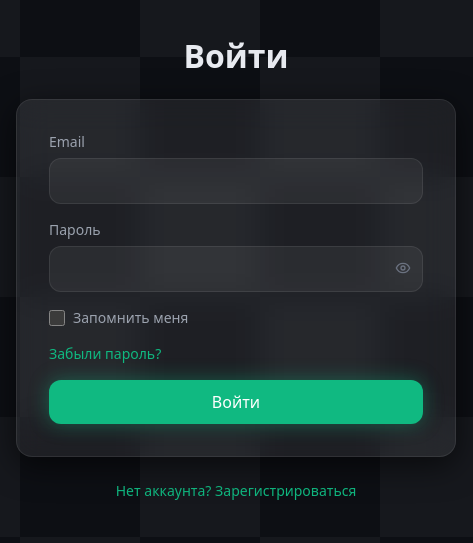
Login — Russian labels › shows Russian Zod validation error when form submitted empty
The image size is (473, 543).
Click the button "Войти".
click(236, 402)  # box [49, 380, 423, 424]
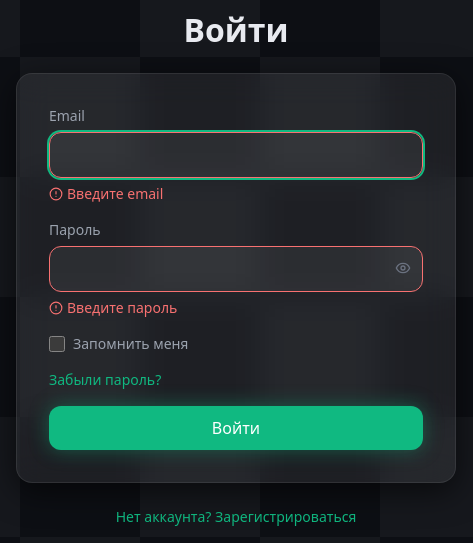
Expected: the text "Введите email" is shown, [49, 184, 163, 203]
